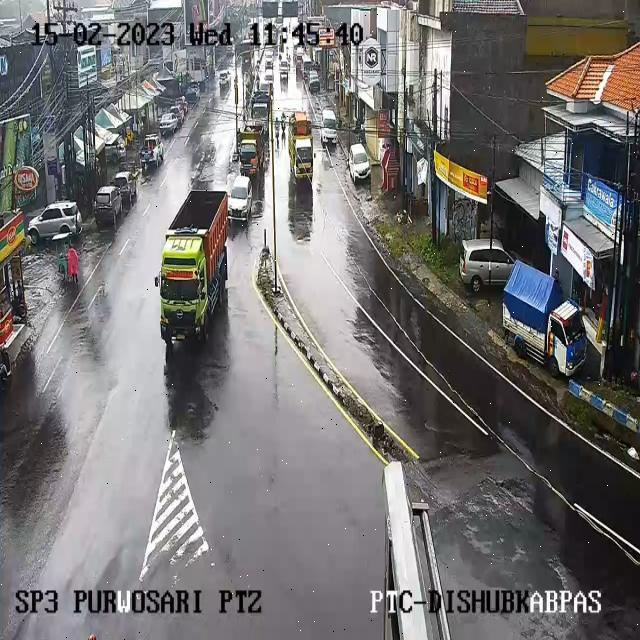Car: (457, 234, 523, 286), (27, 200, 82, 243), (92, 186, 124, 227), (228, 176, 253, 221), (348, 144, 370, 183), (112, 171, 137, 205), (140, 134, 164, 167), (320, 108, 338, 144), (158, 112, 180, 136), (169, 105, 185, 125), (303, 54, 316, 76), (185, 85, 200, 104), (308, 72, 320, 92), (218, 71, 230, 89), (177, 96, 188, 115), (258, 78, 271, 93), (279, 57, 289, 71), (264, 70, 274, 84), (265, 49, 274, 64), (295, 46, 304, 59), (280, 67, 288, 81), (266, 58, 274, 69)
Motorbike: (274, 118, 280, 144), (280, 112, 286, 135)
Truck: (167, 192, 237, 346), (503, 263, 587, 379), (288, 111, 314, 179), (236, 124, 266, 179), (250, 95, 270, 126)
